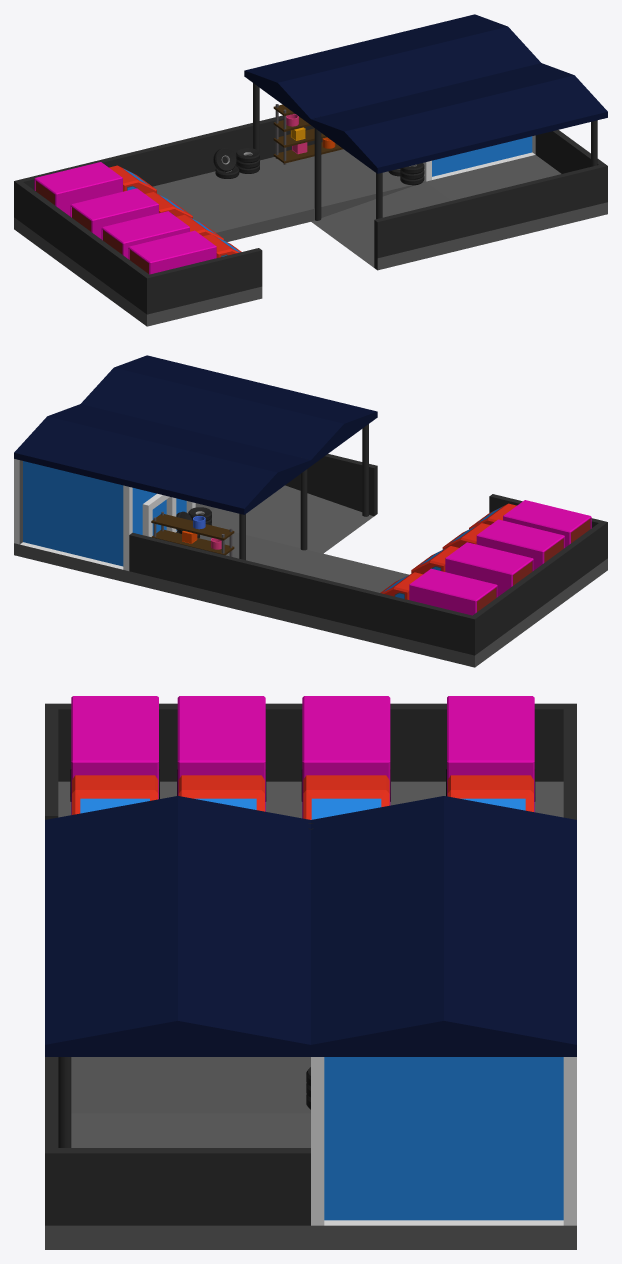
Rendered from depot.fbx.
3 views of the same model, one above another, from view 1: azimuth 30°, elevation 25°; view 2: azimuth 150°, elevation 25°; view 3: azimuth 270°, elevation 25° (orthographic). The views are drawn at different scales.
Visible parts, largest first — view 1: Cube, Куб_Куб.007, Куб_Куб.004, Куб_Куб.006, Cube.001, Куб_Куб.005, Torus.001, Torus.002, Цилиндр_Цилиндр.007, Цилиндр_Цилиндр.006; view 2: Cube, Куб_Куб.007, Куб_Куб.006, Куб_Куб.005, Cube.001, Куб_Куб.004, Цилиндр_Цилиндр.006, Цилиндр_Цилиндр.007, Цилиндр_Цилиндр.005; view 3: Cube, Куб_Куб.006, Куб_Куб.005, Куб_Куб.004, Куб_Куб.007, Цилиндр_Цилиндр.006, Цилиндр_Цилиндр.004, Цилиндр_Цилиндр.007, Цилиндр_Цилиндр.005, Цилиндр.001_Цилиндр.005.
Part boxes in pixels (box(x1,y1,x2,y2)): Cube: box(14, 14, 607, 326); Куб_Куб.007: box(34, 162, 122, 216); Куб_Куб.004: box(128, 230, 216, 274); Куб_Куб.006: box(70, 188, 158, 239); Cube.001: box(273, 104, 343, 164); Куб_Куб.005: box(101, 211, 189, 258); Torus.001: box(213, 148, 259, 178); Torus.002: box(388, 163, 424, 185); Цилиндр_Цилиндр.007: box(109, 165, 156, 193); Цилиндр_Цилиндр.006: box(145, 192, 192, 218); Cube: box(14, 355, 607, 667); Куб_Куб.007: box(409, 568, 497, 615); Куб_Куб.006: box(445, 542, 533, 596); Куб_Куб.005: box(476, 519, 564, 570); Cube.001: box(151, 511, 234, 556); Куб_Куб.004: box(503, 500, 591, 547); Цилиндр_Цилиндр.006: box(411, 546, 458, 574); Цилиндр_Цилиндр.007: box(380, 572, 422, 599); Цилиндр_Цилиндр.005: box(442, 523, 489, 549); Cube: box(45, 703, 576, 1249); Куб_Куб.006: box(302, 696, 390, 818); Куб_Куб.005: box(177, 696, 265, 811); Куб_Куб.004: box(71, 696, 158, 814); Куб_Куб.007: box(447, 696, 534, 812); Цилиндр_Цилиндр.006: box(303, 775, 389, 819); Цилиндр_Цилиндр.004: box(72, 775, 158, 814); Цилиндр_Цилиндр.007: box(447, 775, 533, 811); Цилиндр_Цилиндр.005: box(178, 775, 264, 811); Цилиндр.001_Цилиндр.005: box(311, 798, 381, 819).
Size of the model in its own units: 800 by 190 by 400.
